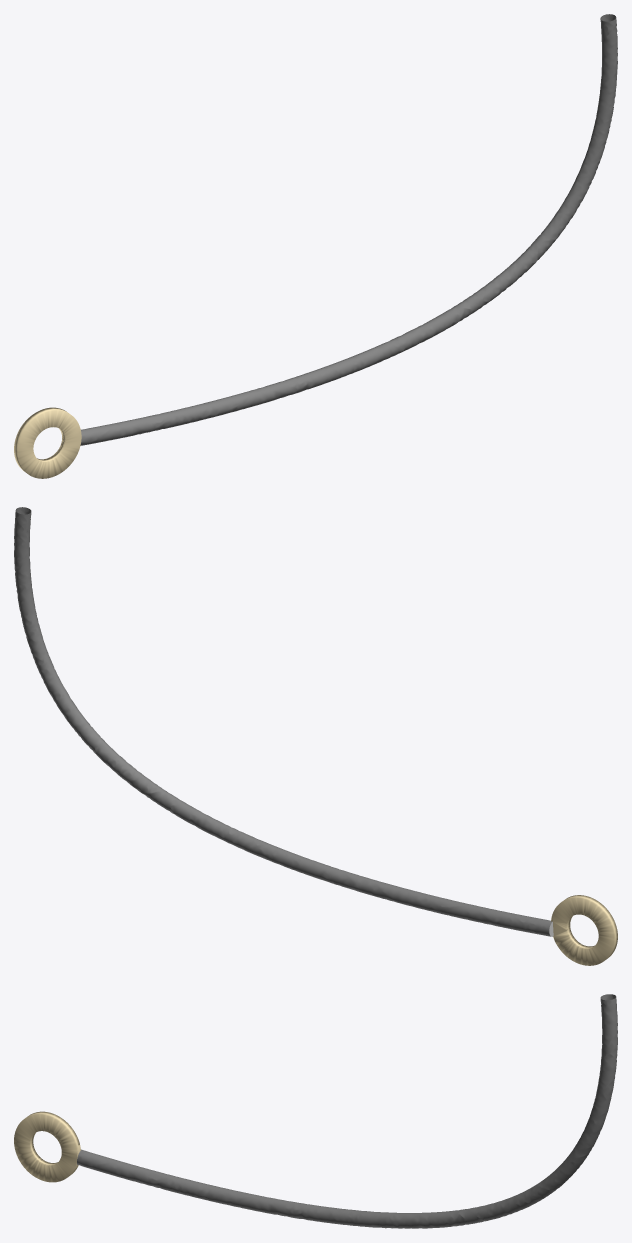
The model's file is kit201lc-lug.glb.
The picture shows the model from 3 angles, top to bottom: view 1: azimuth 30°, elevation 25°; view 2: azimuth 150°, elevation 25°; view 3: azimuth 330°, elevation 25°; orthographic projection.
Visible parts, largest first — view 1: lug-material-0, lug-material-2; view 2: lug-material-0, lug-material-2; view 3: lug-material-0, lug-material-2.
Part boxes in pixels (<box>): lug-material-0: <box>80,14,617,445</box>; lug-material-2: <box>14,407,81,478</box>; lug-material-0: <box>14,507,552,936</box>; lug-material-2: <box>551,895,617,965</box>; lug-material-0: <box>77,994,617,1228</box>; lug-material-2: <box>14,1111,80,1182</box>.
Bounding box in the file's own units: 4.35 × 2.21 × 0.1.
